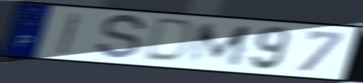7: (299, 28, 347, 75)
9: (246, 25, 295, 72)
D: (140, 16, 198, 65)
I: (56, 11, 84, 56)
M: (186, 22, 254, 67)
S: (94, 13, 149, 62)
